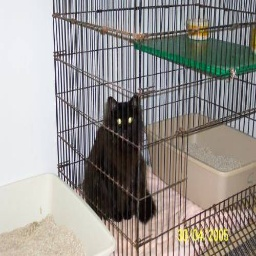cat: (75, 89, 158, 227)
